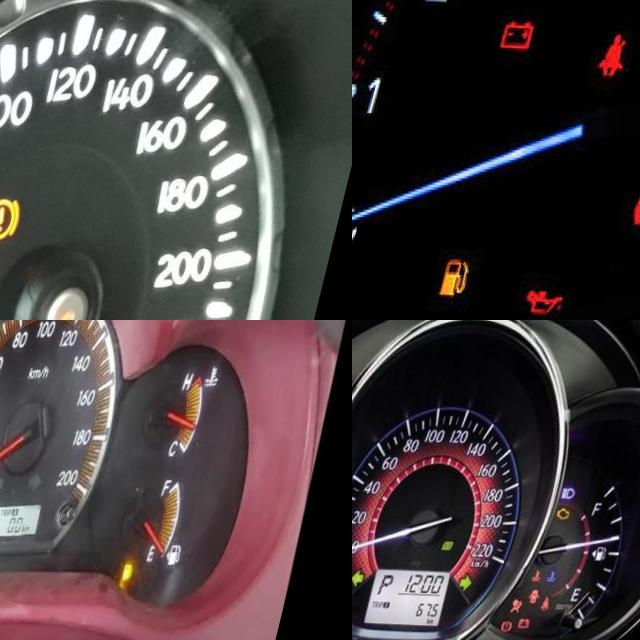High Engine Coolant Temperature: (553, 566, 564, 577)
Seat Belt: (562, 592, 575, 608)
